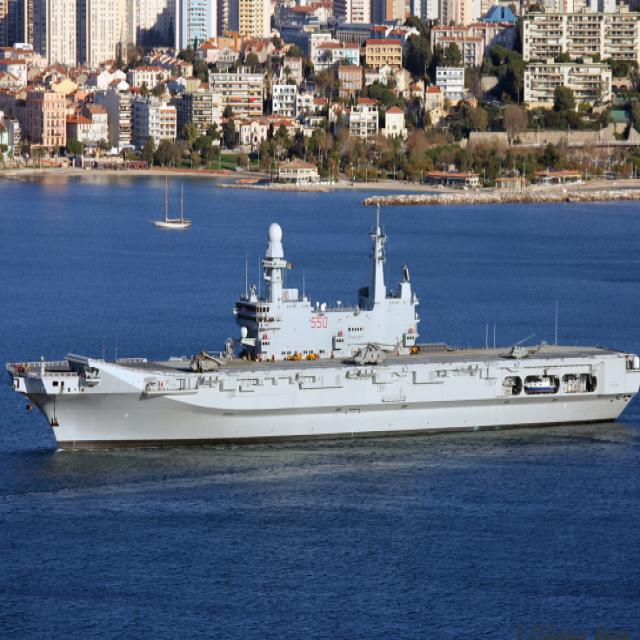Portanaves: (6, 201, 640, 458)
